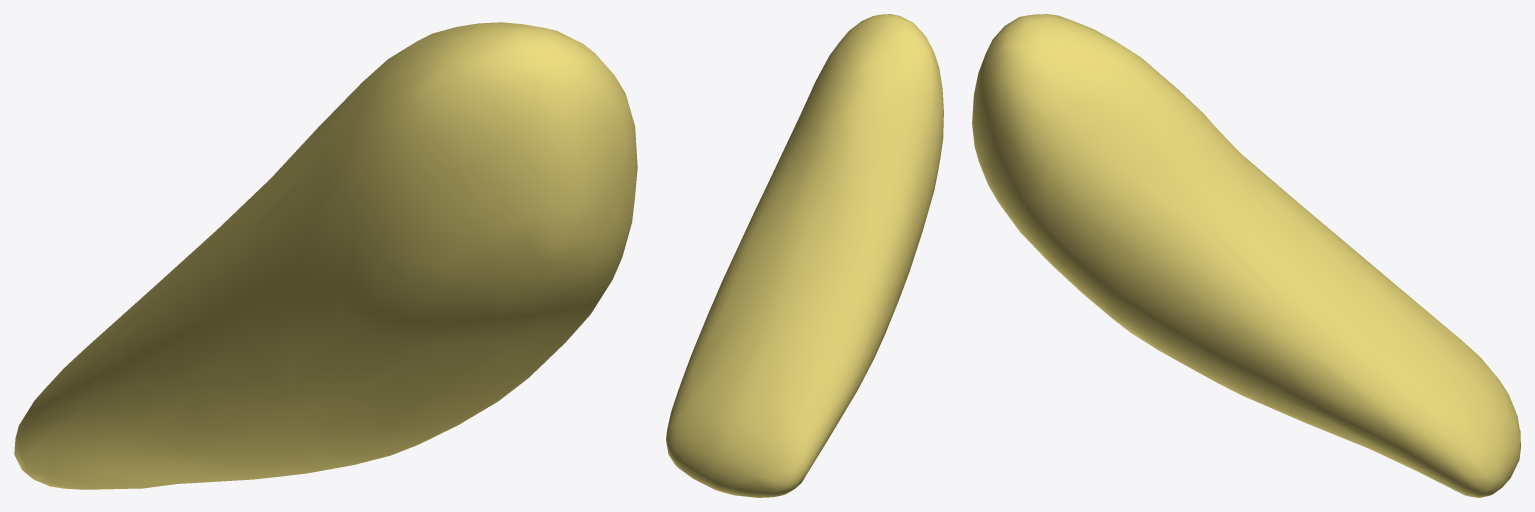
Rendered from central-lobule.glb.
The picture shows the model from 3 angles, left to right: view 1: azimuth 30°, elevation 25°; view 2: azimuth 150°, elevation 25°; view 3: azimuth 270°, elevation 25°; orthographic projection. The views are drawn at different scales.
Parts seen in each view (by area): view 1: Central lobule; view 2: Central lobule; view 3: Central lobule.
Part boxes in pixels (x1,y1,x2,y2): Central lobule: [14, 22, 637, 489]; Central lobule: [666, 14, 943, 497]; Central lobule: [972, 14, 1520, 497].
Bounding box in the file's own units: 0.0077 × 0.0158 × 0.0171.
